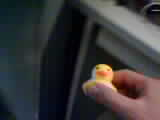duck: (83, 62, 121, 99)
